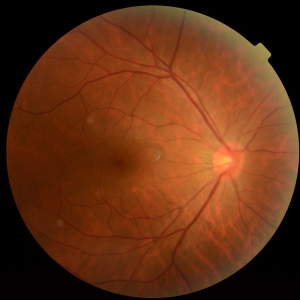retina_disease: (79, 105, 274, 219)
